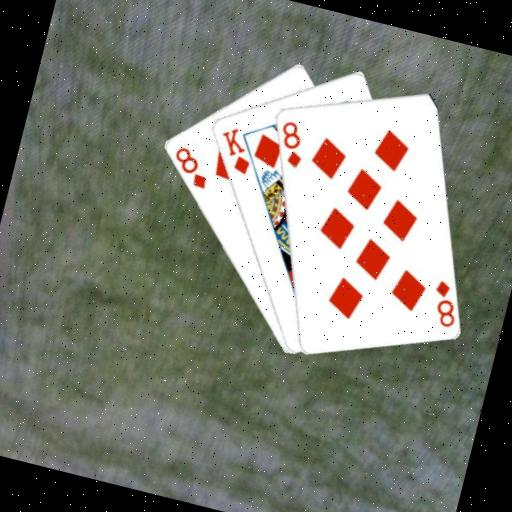8D: (165, 142, 216, 191), (423, 275, 465, 331), (270, 116, 311, 171)
KD: (210, 122, 259, 178)
